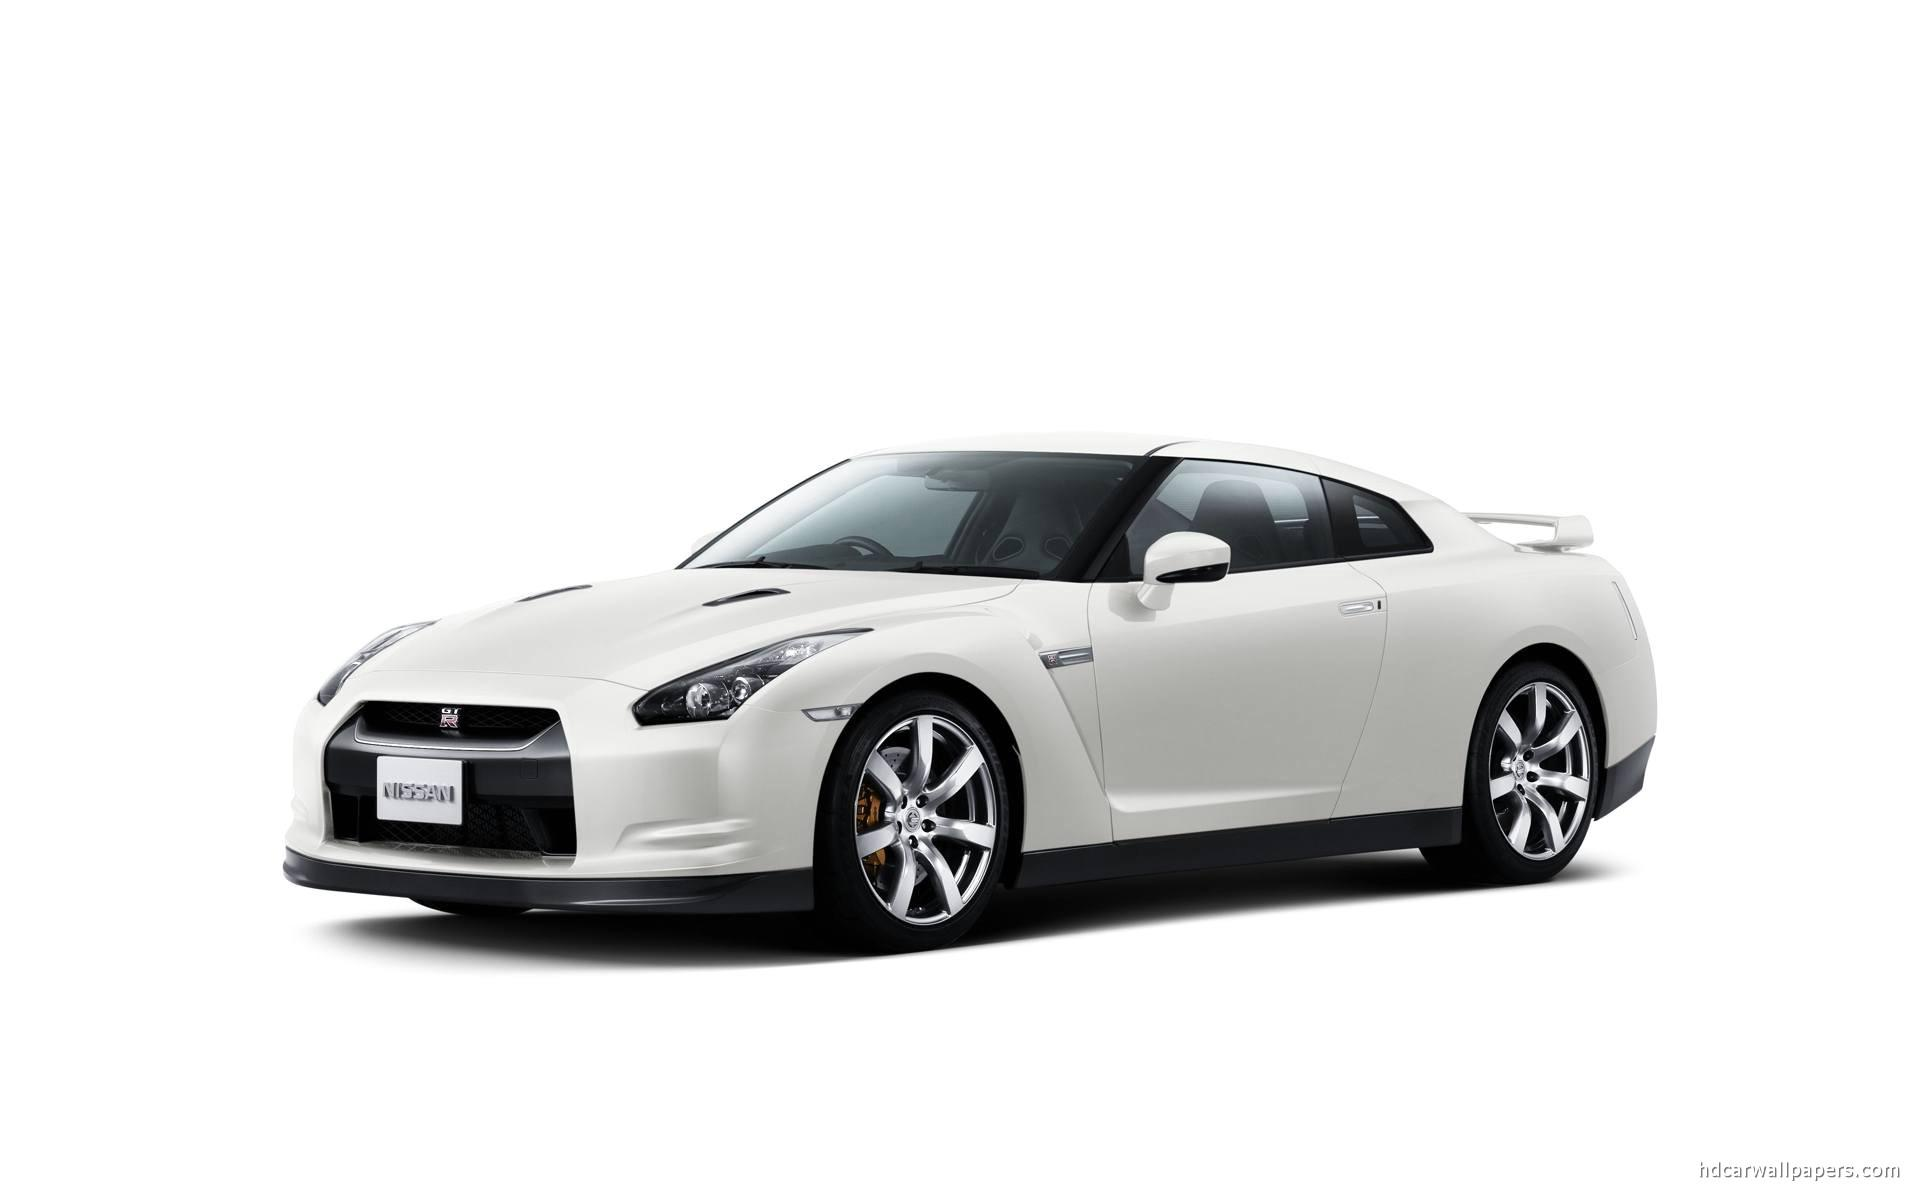Car: (256, 429, 1738, 993)
